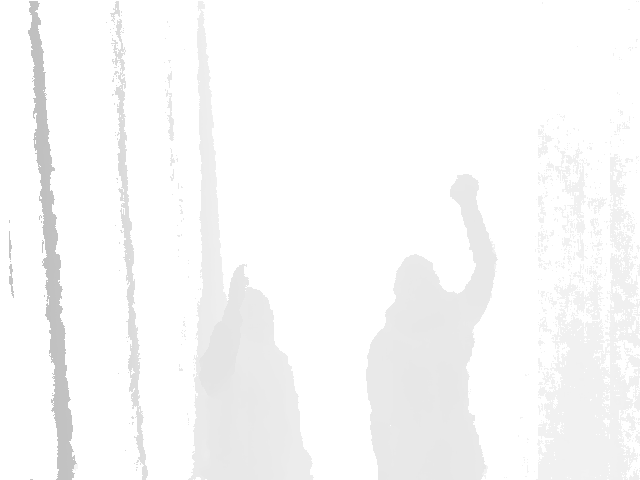hand: (448, 167, 480, 210), (225, 261, 252, 310)
head: (215, 273, 277, 346), (393, 252, 440, 318)
person: (365, 162, 496, 480), (190, 263, 313, 480)
